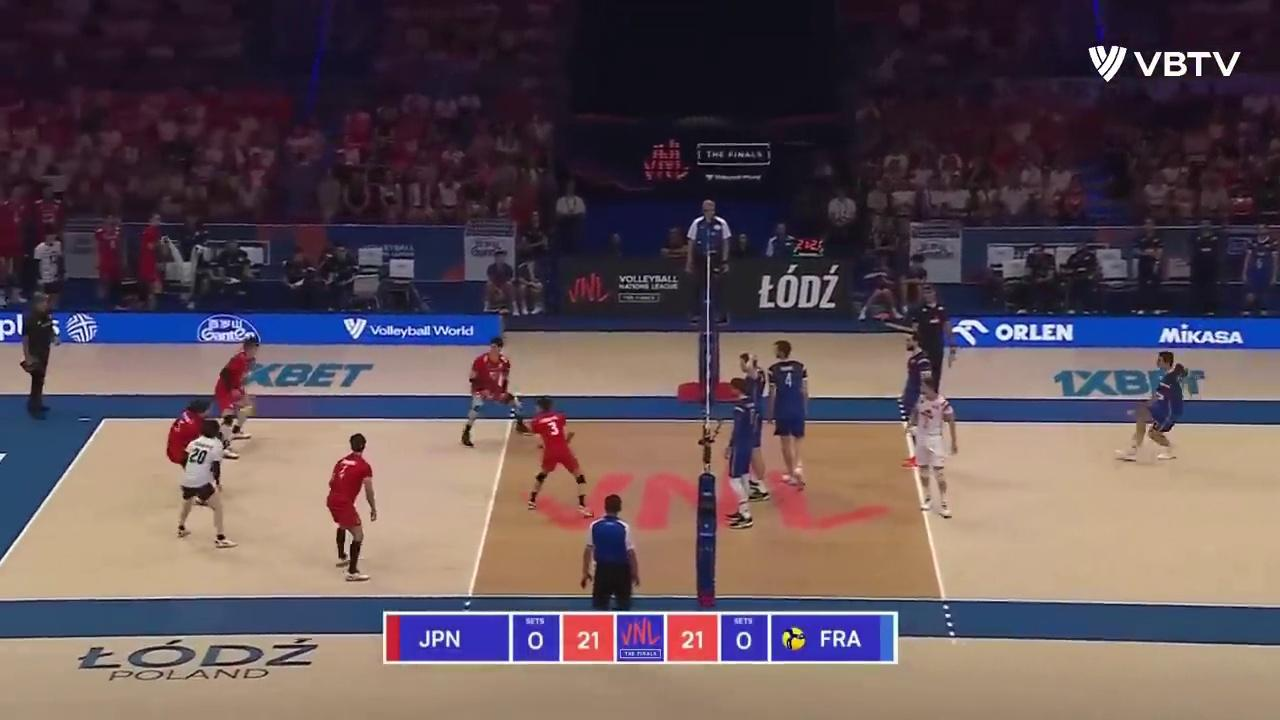ball: (237, 405, 255, 420)
